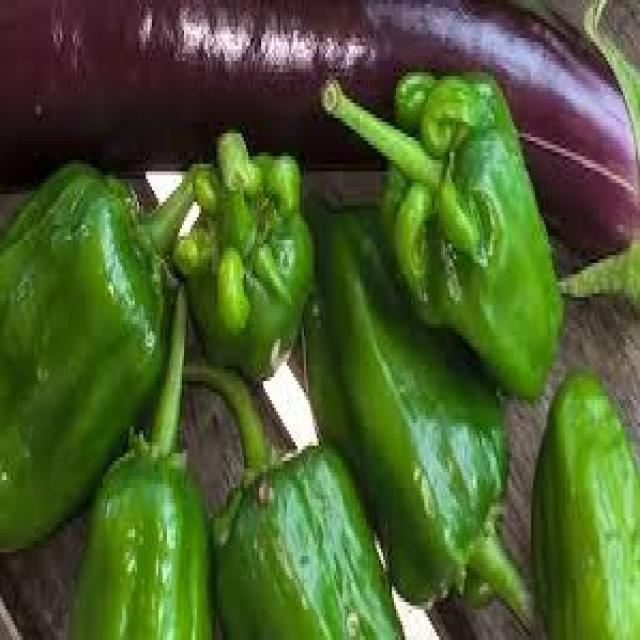bell_pepper: (325, 67, 567, 405), (176, 128, 320, 386)
